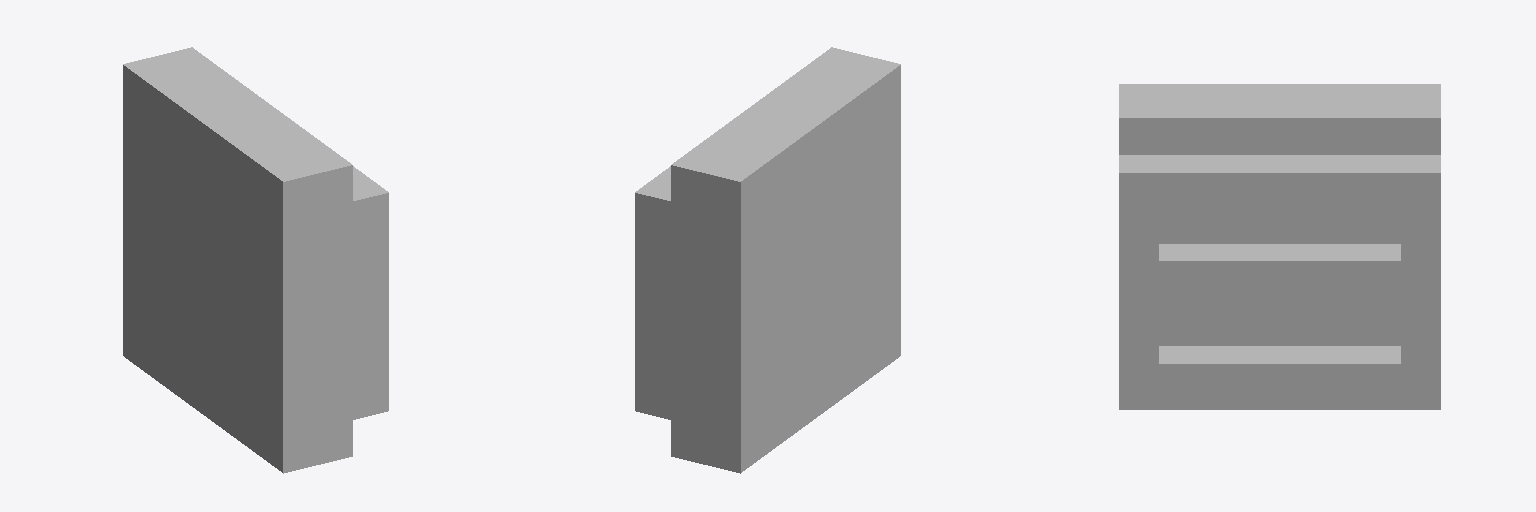
File: bumped_window_type4_2.obj
3 views of the same model, side by side, from view 1: azimuth 30°, elevation 25°; view 2: azimuth 150°, elevation 25°; view 3: azimuth 270°, elevation 25° (orthographic).
Parts seen in each view (by area): view 1: window.001; view 2: window.001; view 3: window.001.
Part boxes in pixels (left/top/right/bottom): window.001: left=123, top=47, right=388, bottom=473; window.001: left=635, top=47, right=900, bottom=473; window.001: left=1119, top=84, right=1440, bottom=409.
Bounding box in the file's own units: 0.7605 × 2 × 2.